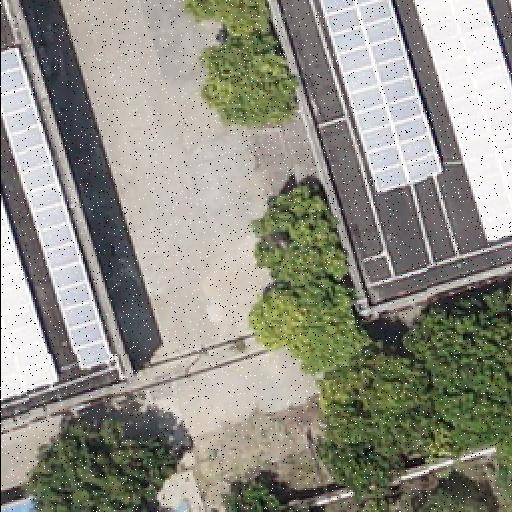solar-panel: (1, 47, 111, 369), (316, 0, 444, 196), (412, 1, 512, 247), (2, 201, 58, 399), (505, 0, 511, 20)
